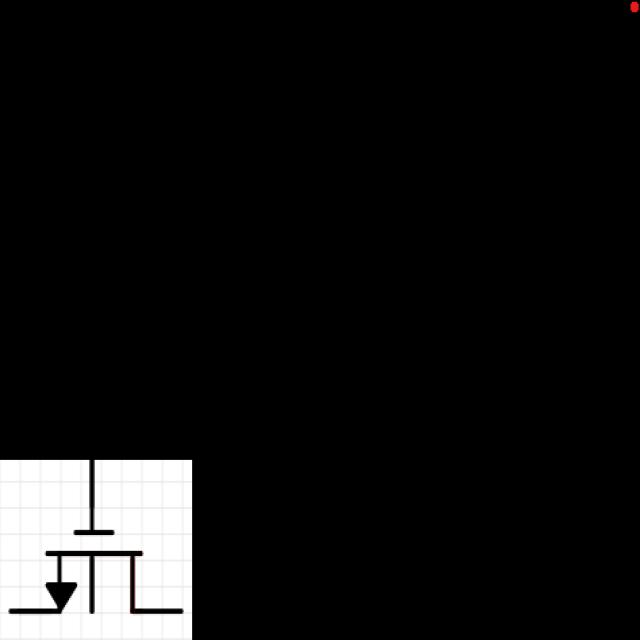pmos: (11, 457, 188, 640)
